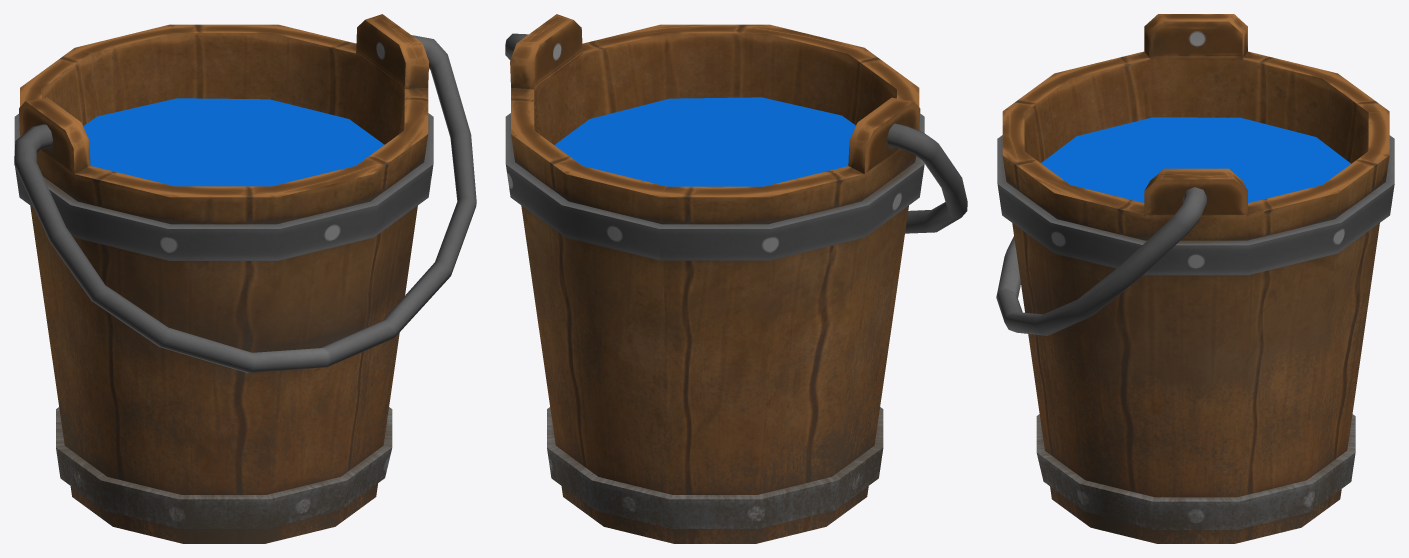
File: waterbucket.fbx
The picture shows the model from 3 angles, left to right: view 1: azimuth 30°, elevation 25°; view 2: azimuth 150°, elevation 25°; view 3: azimuth 270°, elevation 25°; orthographic projection. The views are drawn at different scales.
Visible parts, largest first — view 1: Bucket; view 2: Bucket; view 3: Bucket.
Part boxes in pixels (bbox=[...]): Bucket: bbox=[14, 14, 476, 543]; Bucket: bbox=[505, 14, 967, 543]; Bucket: bbox=[996, 14, 1394, 543].
Size of the model in its own units: 43.91 by 39.65 by 36.94.
